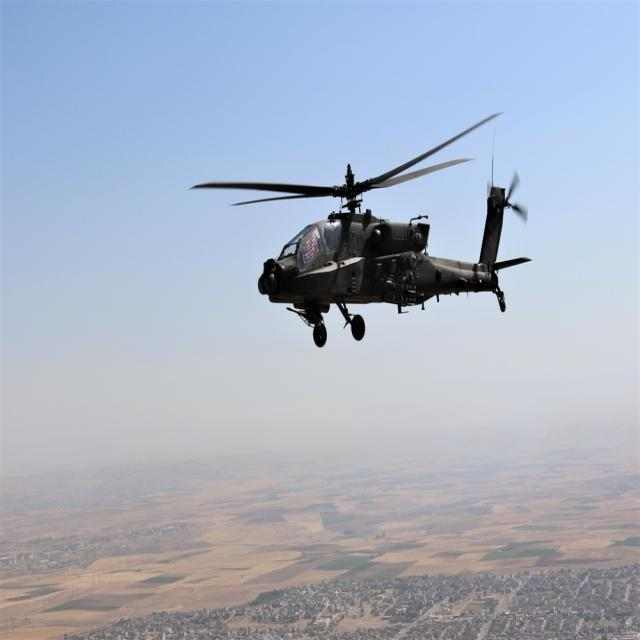Apache: (191, 115, 531, 343)
